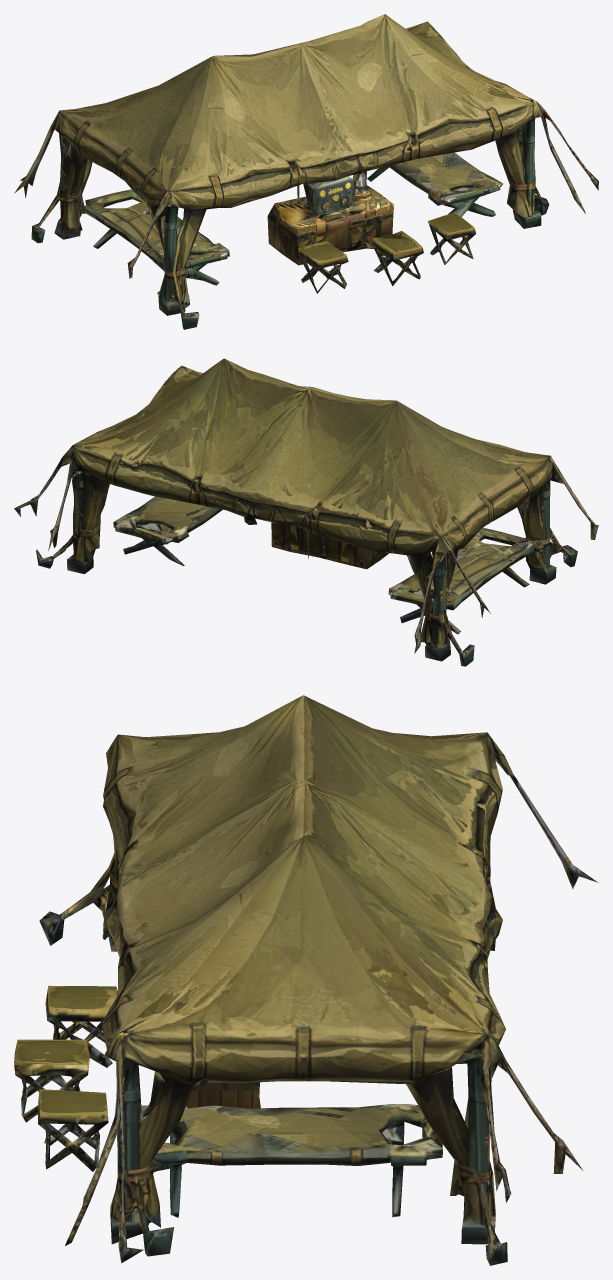
Rendered from EX_Mil_Tent.fbx.
The picture shows the model from 3 angles, top to bottom: view 1: azimuth 30°, elevation 25°; view 2: azimuth 150°, elevation 25°; view 3: azimuth 270°, elevation 25°; orthographic projection. The views are drawn at different scales.
Visible parts, largest first — view 1: texture_mapping; view 2: texture_mapping; view 3: texture_mapping.
Part boxes in pixels (bbox=[...]): texture_mapping: bbox=[14, 14, 598, 329]; texture_mapping: bbox=[14, 358, 598, 666]; texture_mapping: bbox=[14, 695, 598, 1265].
Bounding box in the file's own units: 0.9719 × 0.6104 × 0.3766.
1 material, 1 textured.
